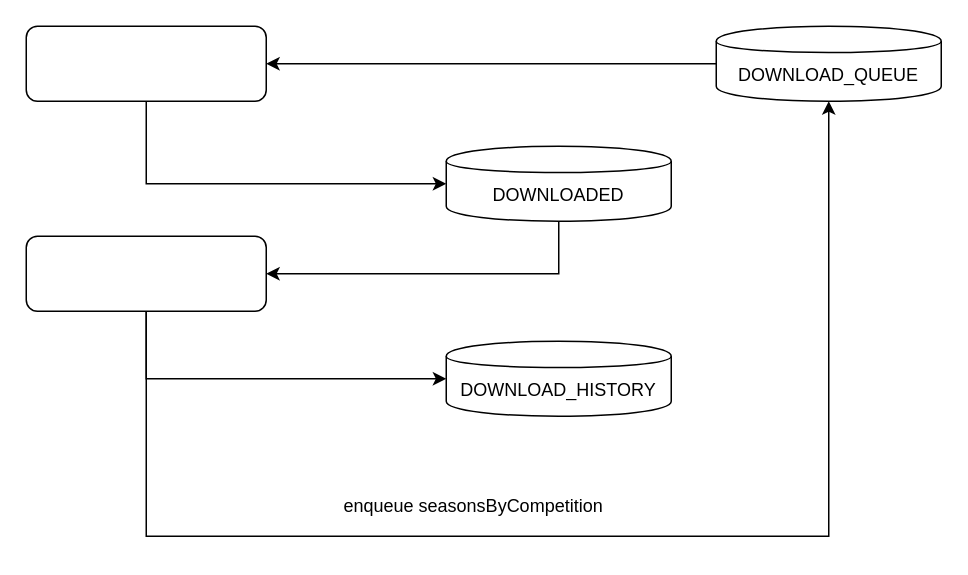
Image size: 968x575. Some labels were removed from this diagram. Here are the shapes that lost their labels. From the top down, the centre of each, then its label:
(145,63): downloader
(145,273): competition list processor
